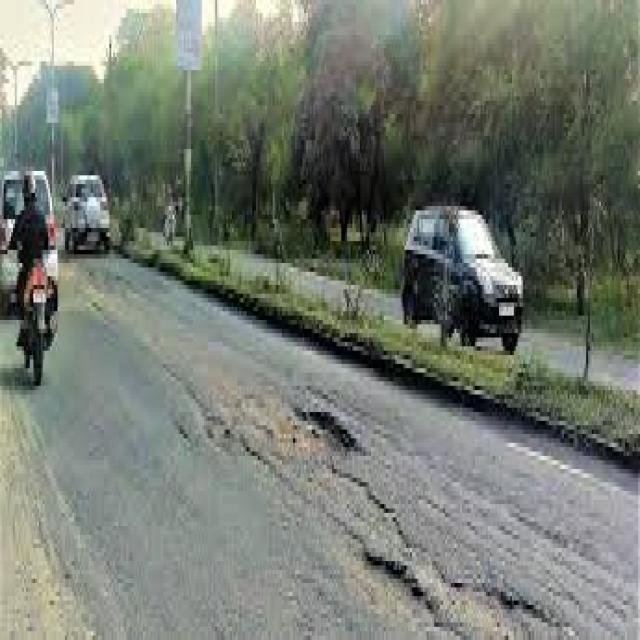Pothole: (61, 259, 419, 636)
